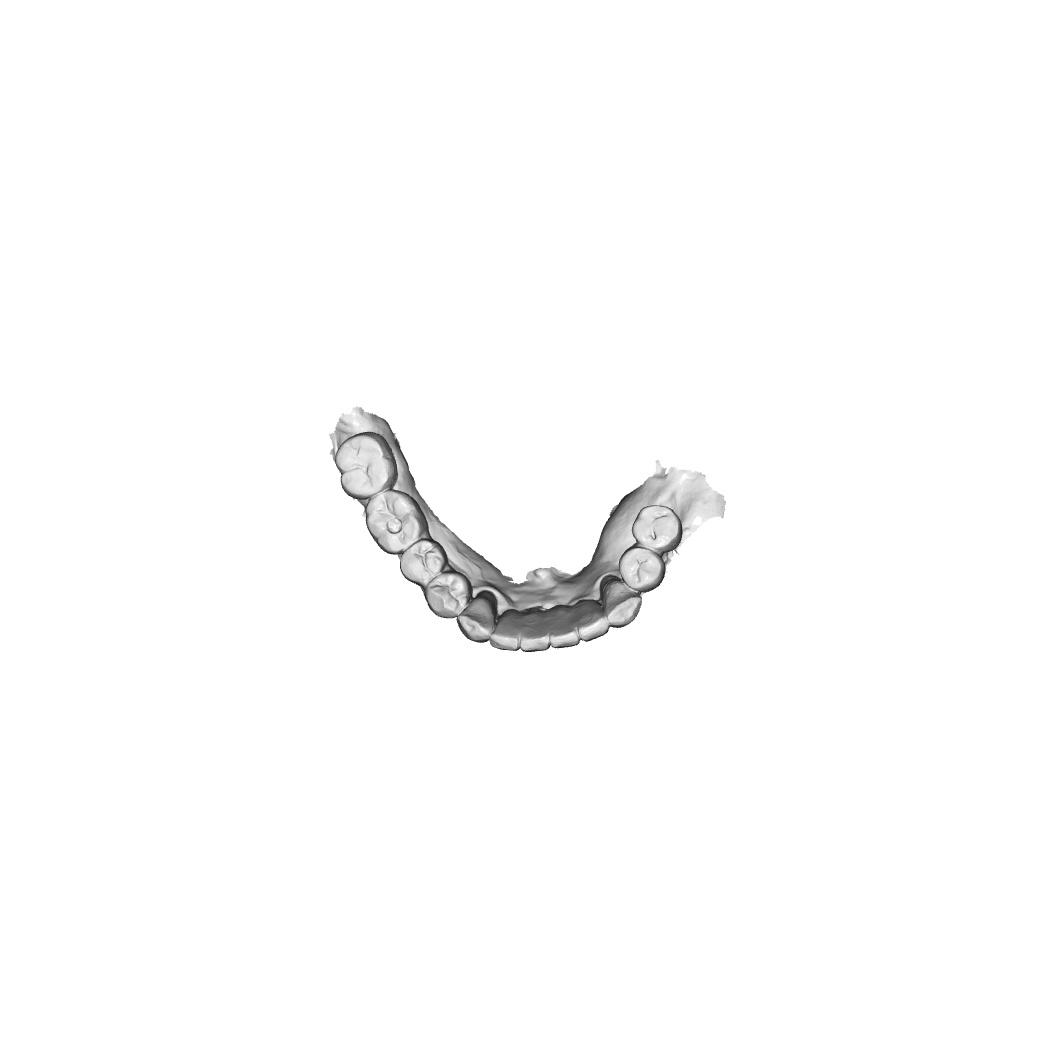canine: (598, 574, 644, 630), (456, 592, 498, 644)
incisor: (575, 598, 610, 643), (549, 602, 581, 649), (489, 608, 521, 652), (520, 607, 550, 653)
molar: (335, 430, 399, 501), (364, 489, 429, 555)
premolar: (398, 536, 448, 588), (630, 504, 683, 553), (423, 570, 474, 619), (617, 544, 666, 594)
